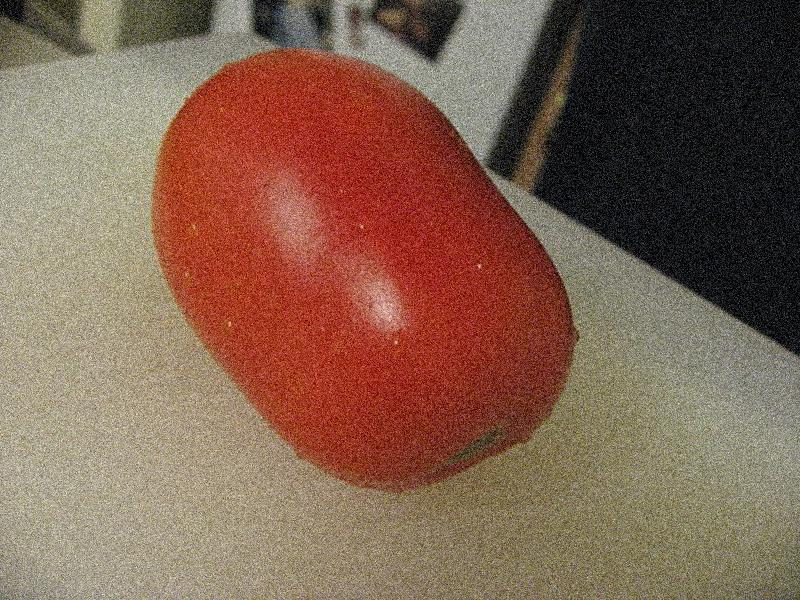Tomato: (153, 46, 575, 488)
